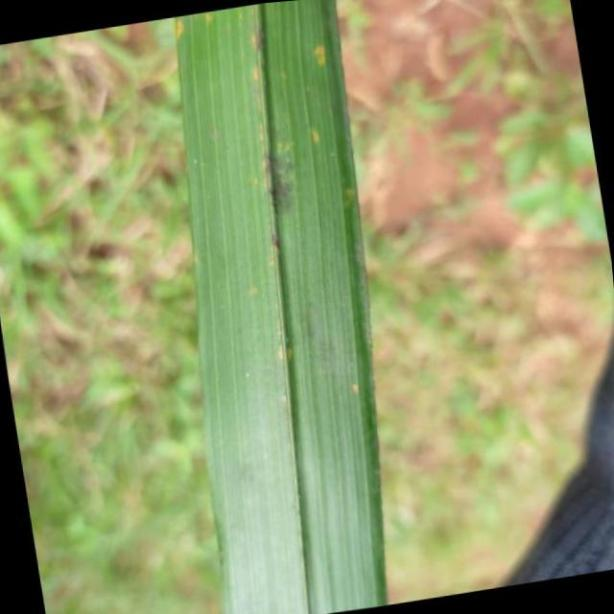Kalium: (178, 5, 385, 614)
